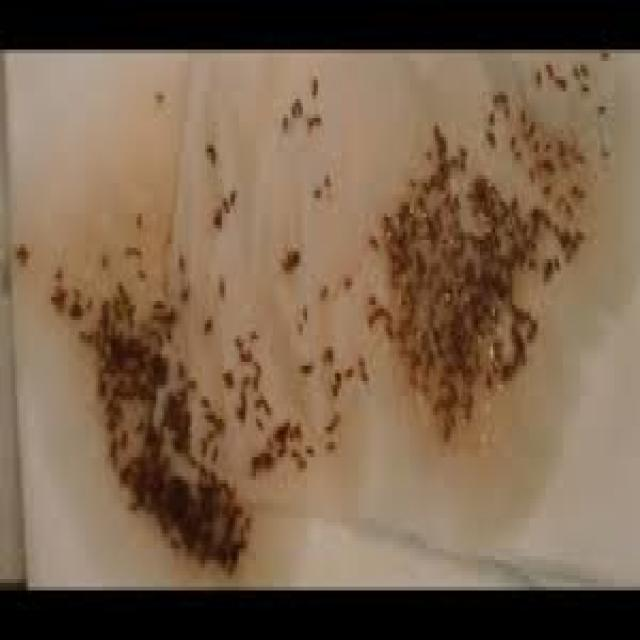fruit fly: (117, 232, 143, 267), (292, 350, 318, 381), (548, 65, 570, 99), (572, 53, 595, 84), (170, 240, 188, 278), (311, 274, 333, 305), (197, 305, 216, 339), (480, 118, 499, 152), (170, 350, 188, 385), (360, 225, 380, 255), (150, 76, 167, 111), (591, 91, 608, 126), (527, 57, 544, 92), (480, 99, 499, 130), (113, 419, 130, 453), (211, 267, 228, 301), (318, 160, 335, 194), (275, 103, 292, 137), (518, 111, 540, 137), (596, 137, 614, 168), (502, 122, 520, 152), (307, 175, 324, 206), (512, 95, 529, 126), (175, 274, 190, 309), (130, 404, 145, 438), (245, 366, 262, 396), (527, 126, 544, 156), (574, 72, 595, 96), (294, 293, 310, 324), (520, 156, 536, 187), (194, 385, 213, 411), (320, 431, 339, 457), (298, 434, 316, 461), (216, 183, 230, 217), (198, 130, 216, 156), (132, 255, 147, 286), (205, 434, 220, 465), (224, 179, 239, 210), (94, 244, 109, 274), (237, 362, 252, 392), (339, 263, 354, 293), (130, 198, 143, 232), (196, 427, 209, 461), (548, 244, 561, 278), (538, 53, 554, 80), (566, 53, 582, 80), (510, 137, 525, 164), (205, 137, 218, 168), (339, 358, 356, 381), (260, 423, 273, 453), (230, 324, 243, 354), (246, 320, 260, 347), (250, 408, 264, 434), (284, 442, 303, 461), (290, 312, 305, 336), (362, 286, 378, 308), (497, 95, 512, 118), (593, 46, 612, 64), (292, 450, 307, 472), (81, 286, 92, 312)
